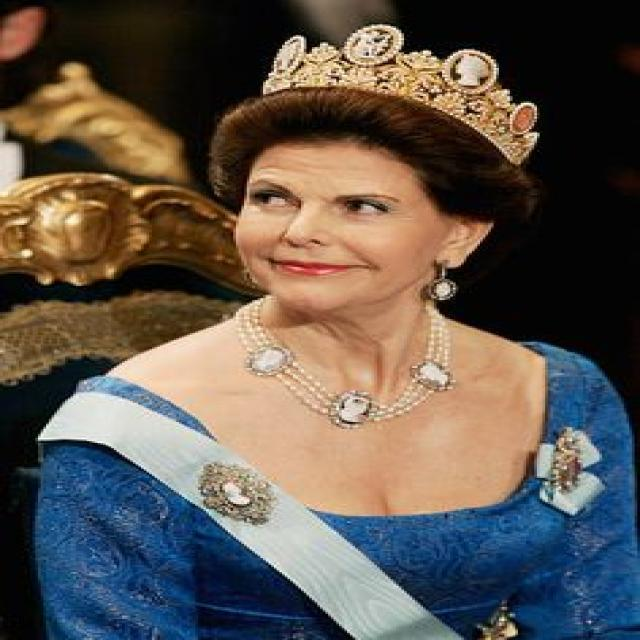Earring: (422, 252, 456, 308), (238, 263, 270, 295)
